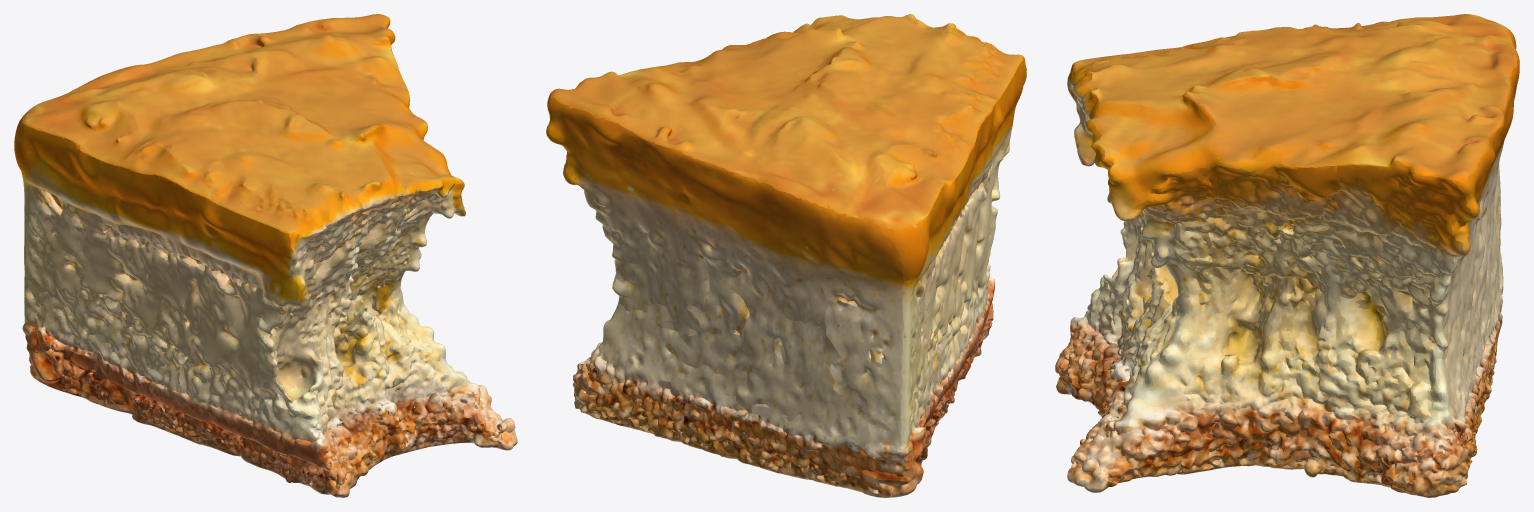
The picture shows the model from 3 angles, left to right: view 1: azimuth 30°, elevation 25°; view 2: azimuth 150°, elevation 25°; view 3: azimuth 270°, elevation 25°; orthographic projection. The views are drawn at different scales.
Parts seen in each view (by area): view 1: FoodRedoV2Alignment-0; view 2: FoodRedoV2Alignment-0; view 3: FoodRedoV2Alignment-0.
Boxes of the visible parts, x1,y1,x2,y2 form: FoodRedoV2Alignment-0: (14, 14, 517, 497); FoodRedoV2Alignment-0: (546, 14, 1026, 497); FoodRedoV2Alignment-0: (1055, 14, 1519, 497).
Bounding box in the file's own units: 0.089 × 0.074 × 0.0889.
1 material, 1 textured.
